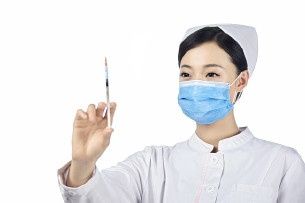Mask: (176, 63, 234, 122)
